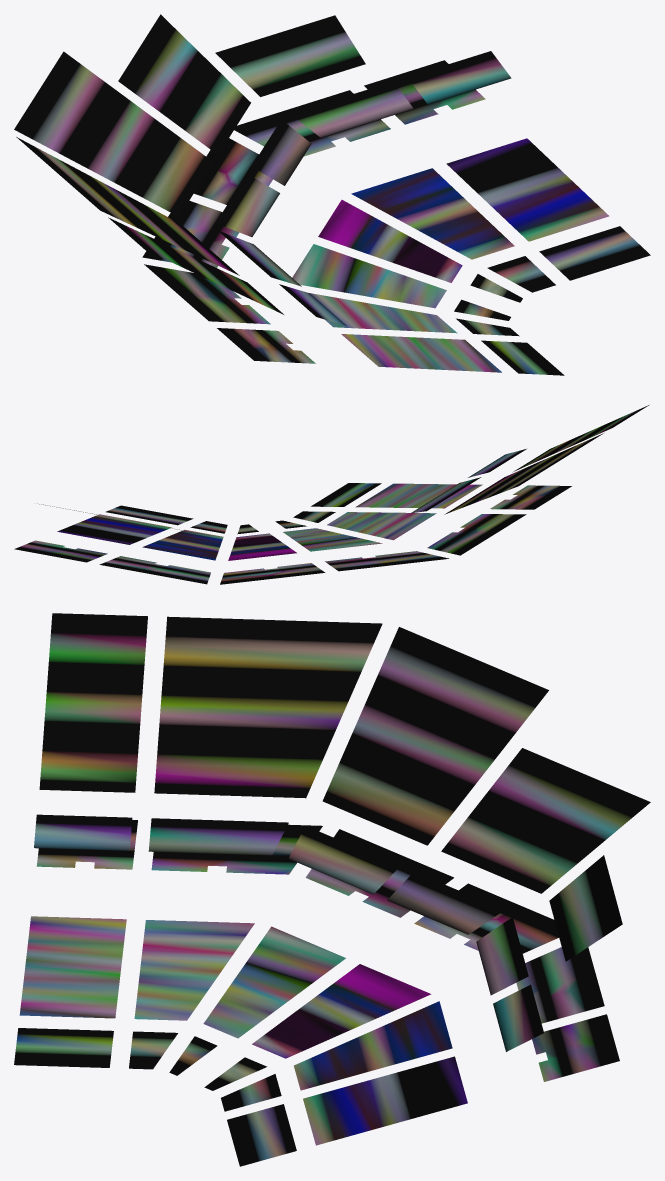
File: SeatBase_10.gltf
3 views of the same model, one above another, from view 1: azimuth 30°, elevation 25°; view 2: azimuth 150°, elevation 25°; view 3: azimuth 270°, elevation 25° (orthographic). The views are drawn at different scales.
Parts seen in each view (by area): view 1: SeatBase_10; view 2: SeatBase_10; view 3: SeatBase_10.
Part boxes in pixels (x1,y1,x2,y2): SeatBase_10: (14, 14, 650, 375); SeatBase_10: (14, 405, 648, 584); SeatBase_10: (14, 613, 650, 1166).
Bounding box in the file's own units: 101 × 34.56 × 85.21.
